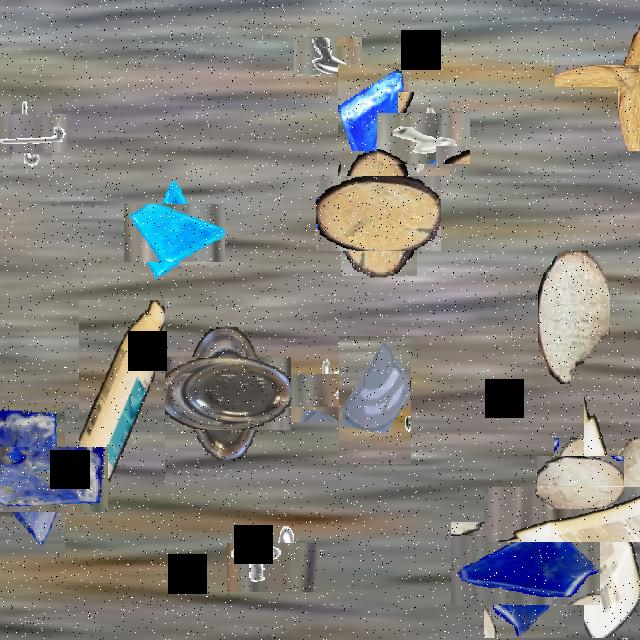glass: (468, 505, 584, 622), (0, 425, 86, 534), (339, 336, 411, 464), (338, 64, 408, 188), (134, 193, 214, 273)
metal: (388, 102, 460, 175), (237, 532, 307, 602), (296, 365, 364, 431), (4, 106, 60, 161), (302, 29, 354, 81)
plastic: (79, 300, 165, 486), (536, 437, 640, 590), (174, 342, 276, 444)
wood: (329, 163, 429, 264), (538, 251, 610, 382), (545, 447, 615, 517), (586, 33, 640, 119)
